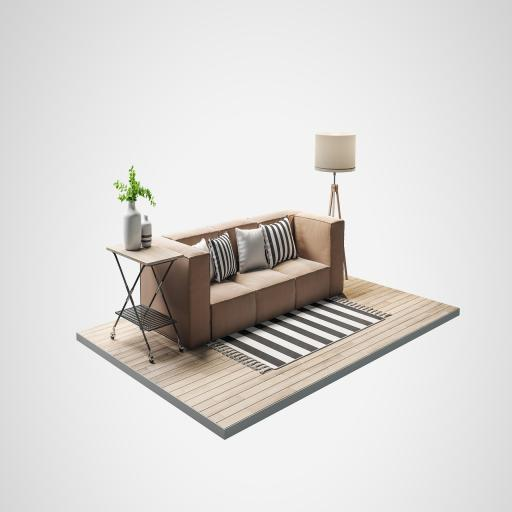back_cushion: (163, 209, 300, 258)
left_arm: (294, 213, 344, 294)
right_arm: (155, 237, 210, 348), (142, 270, 153, 300)
seat_cushion: (210, 258, 330, 340)
stallion-sofa: (150, 209, 344, 348)
